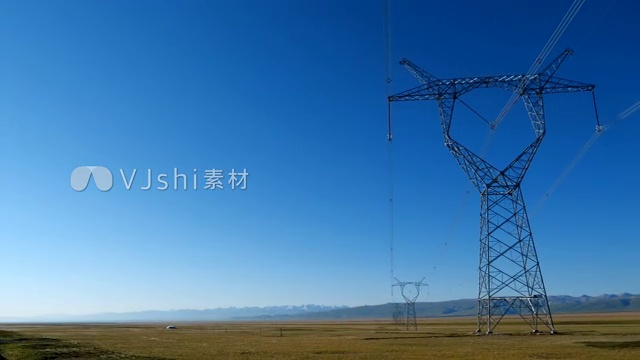tower_body: (384, 45, 613, 339), (386, 274, 433, 335)
tower_foot: (471, 264, 561, 337), (403, 314, 422, 333)
tower_head: (386, 48, 610, 196), (389, 276, 430, 303)
